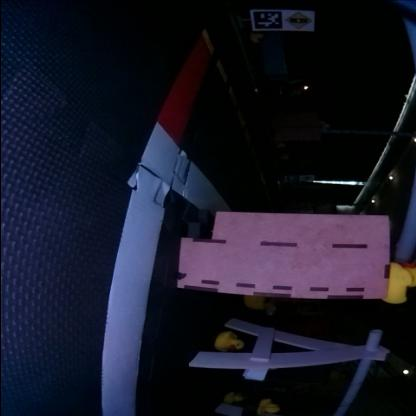Duckie: (384, 263, 415, 304), (214, 332, 244, 352), (223, 392, 242, 406), (257, 400, 279, 412)
QR code: (253, 12, 283, 30)
Signal sign: (285, 12, 312, 30)
